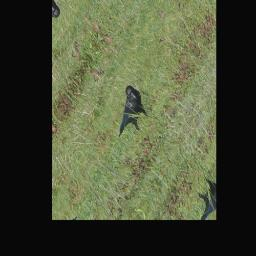Crow: (106, 81, 154, 151)
